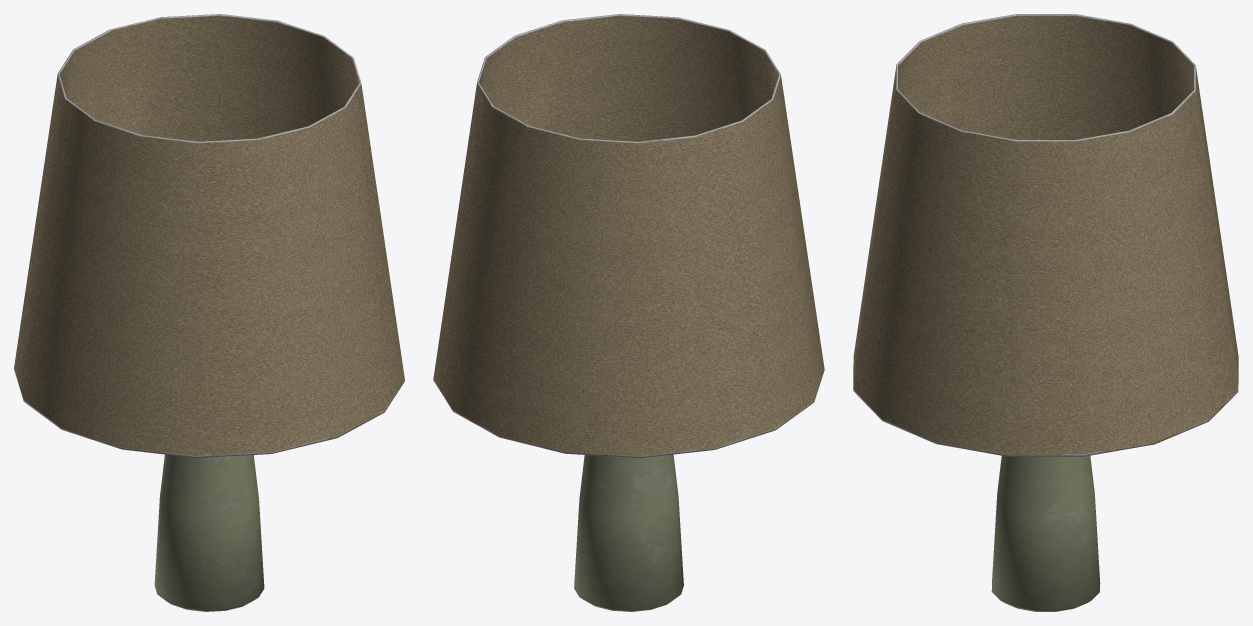
The model's file is lamp1.fbx.
3 renders of one model, left to right at view 1: azimuth 30°, elevation 25°; view 2: azimuth 150°, elevation 25°; view 3: azimuth 270°, elevation 25°, orthographic.
Visible parts, largest first — view 1: Circle.001; view 2: Circle.001; view 3: Circle.001.
Part boxes in pixels (x1,y1,x2,y2): Circle.001: (14, 14, 404, 611); Circle.001: (433, 14, 824, 611); Circle.001: (853, 14, 1238, 611).
Size of the model in its own units: 17 by 25 by 17.
Materials: 1 (1 with a texture image).
